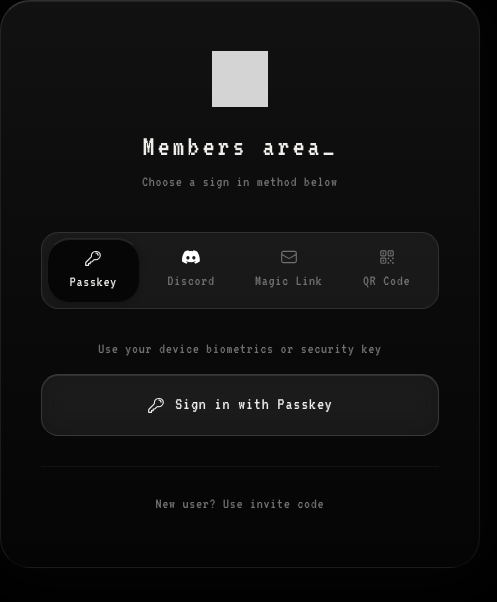
Test: LoginCard › renders magic link form when Magic Link tab is clicked
This screenshot has width=497, height=602.
What coordinates should you click on to do the following:
click the button "Magic Link"
I would click on:
 (289, 270)
Its box is 242,238 -> 335,303.
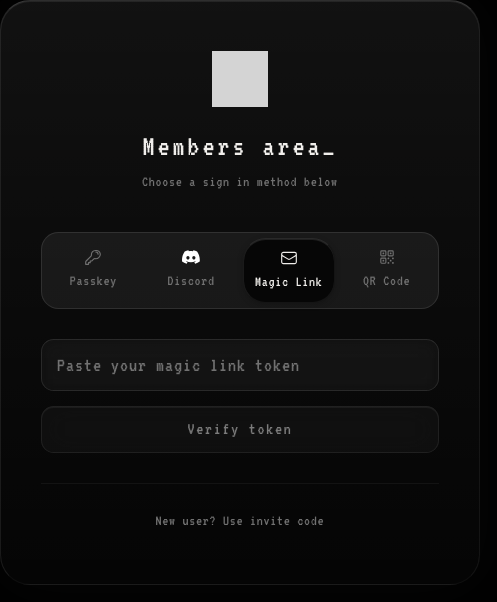
expect the field with placeholder "Paste your magic link token" is shown: met, box 41,339 -> 439,391
